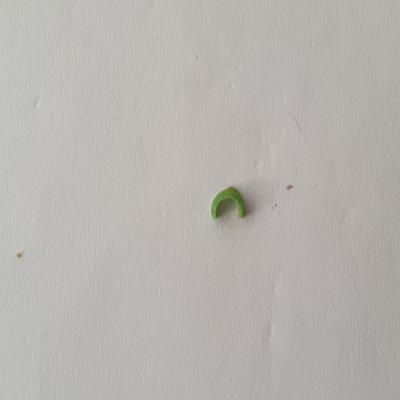plastic: (203, 181, 256, 222)
